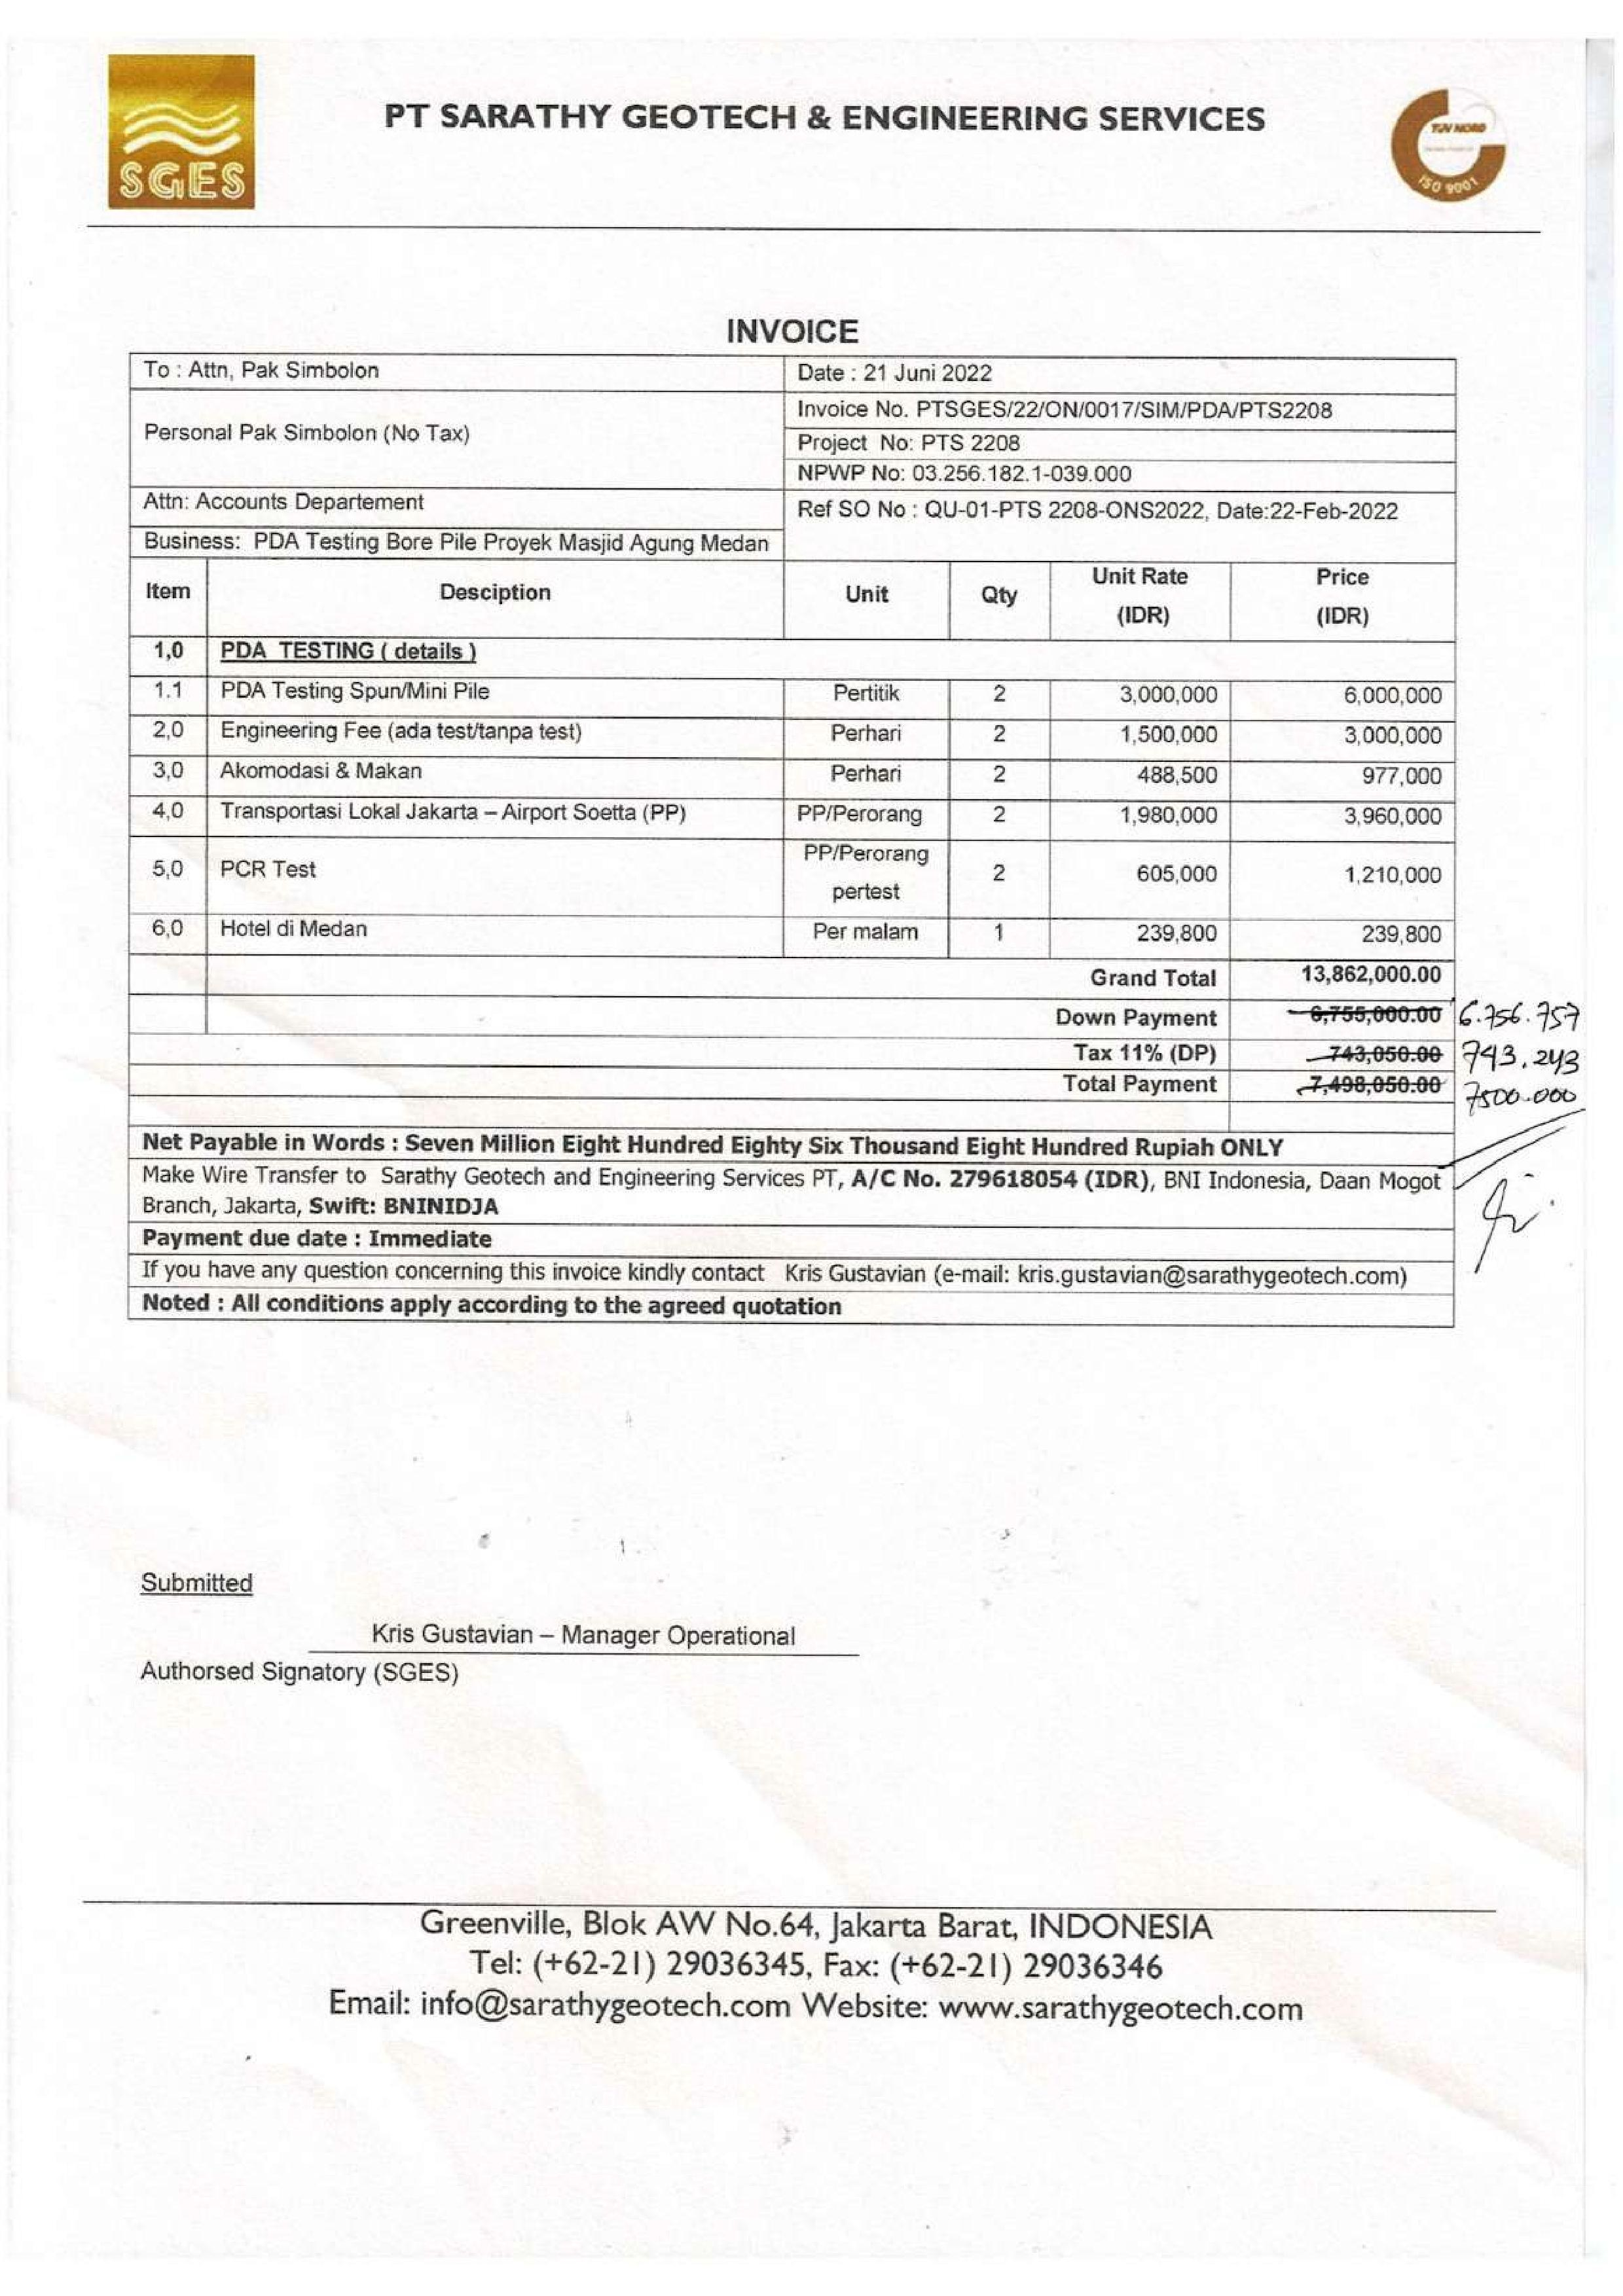InvoiceDate: (859, 360, 999, 386)
InvoiceNumber: (919, 391, 1344, 428)
TotalAmount: (1456, 1071, 1590, 1122)
